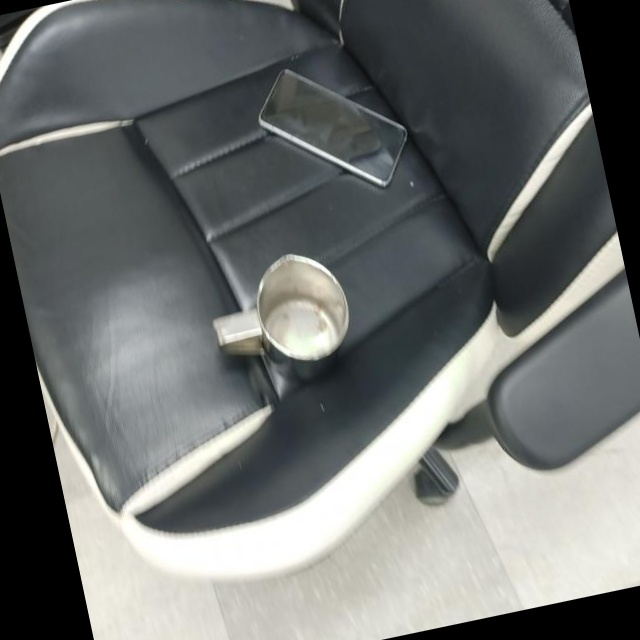cup: (202, 239, 366, 402)
phone: (247, 43, 422, 212)
